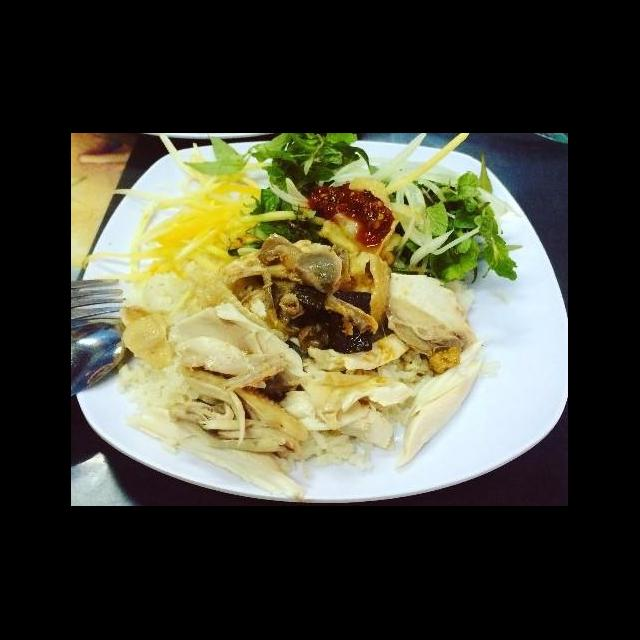com: (114, 260, 208, 412)
com ga: (108, 176, 529, 506)
rau ram: (178, 134, 292, 184)
thit ga: (123, 364, 314, 506), (276, 332, 416, 452), (163, 302, 310, 411), (339, 260, 482, 358), (392, 338, 488, 471)
